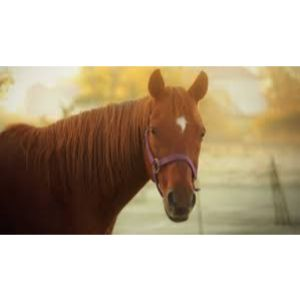horse: (1, 68, 209, 233)
